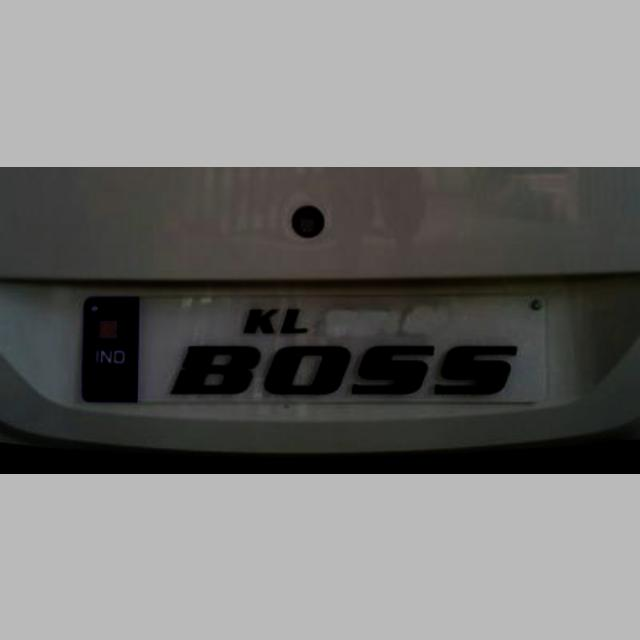plate: (88, 297, 548, 401)
